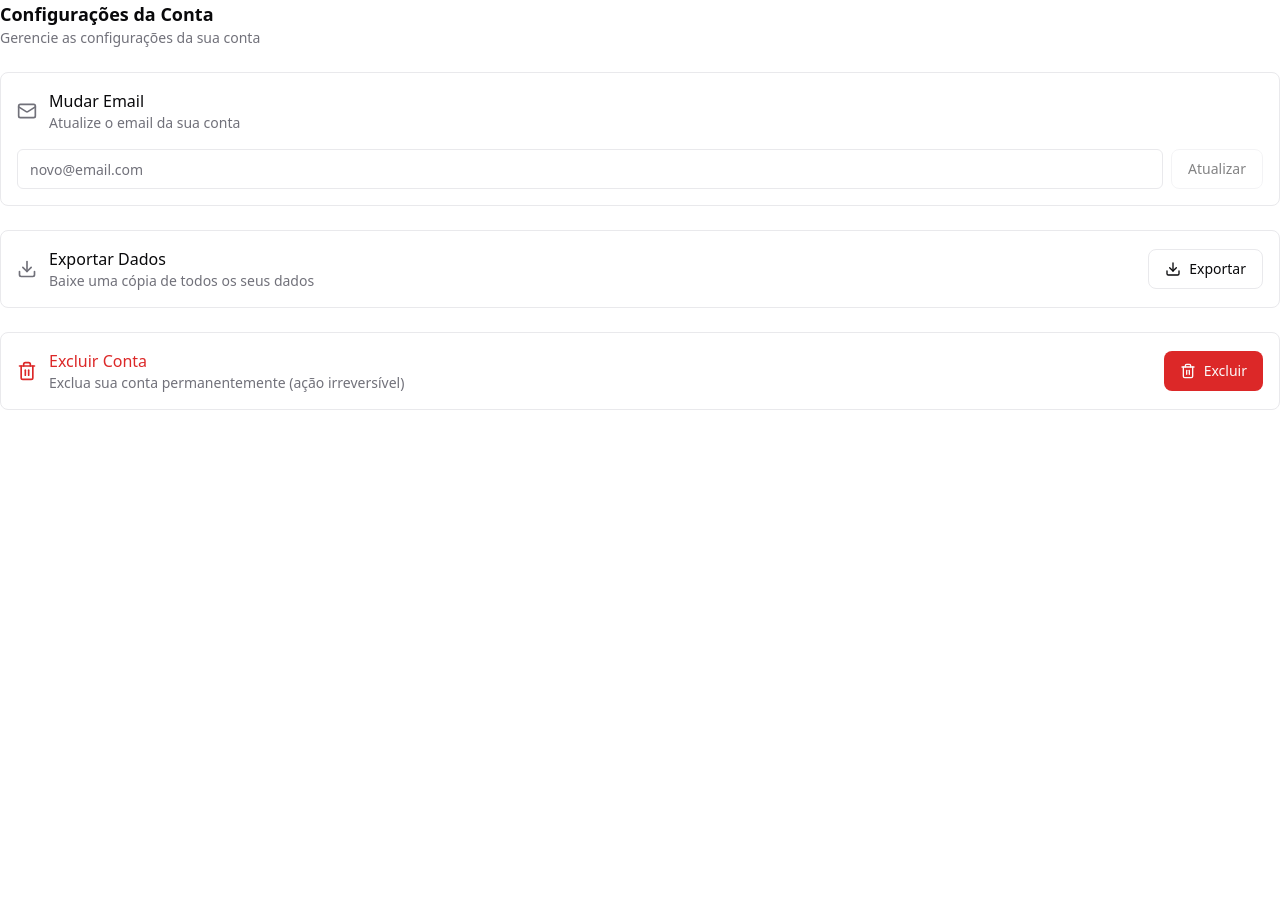
Test: AccountSettings › should open delete modal when delete button is clicked
Click the button "Excluir" at point(1213, 371), box [1164,351,1263,391]
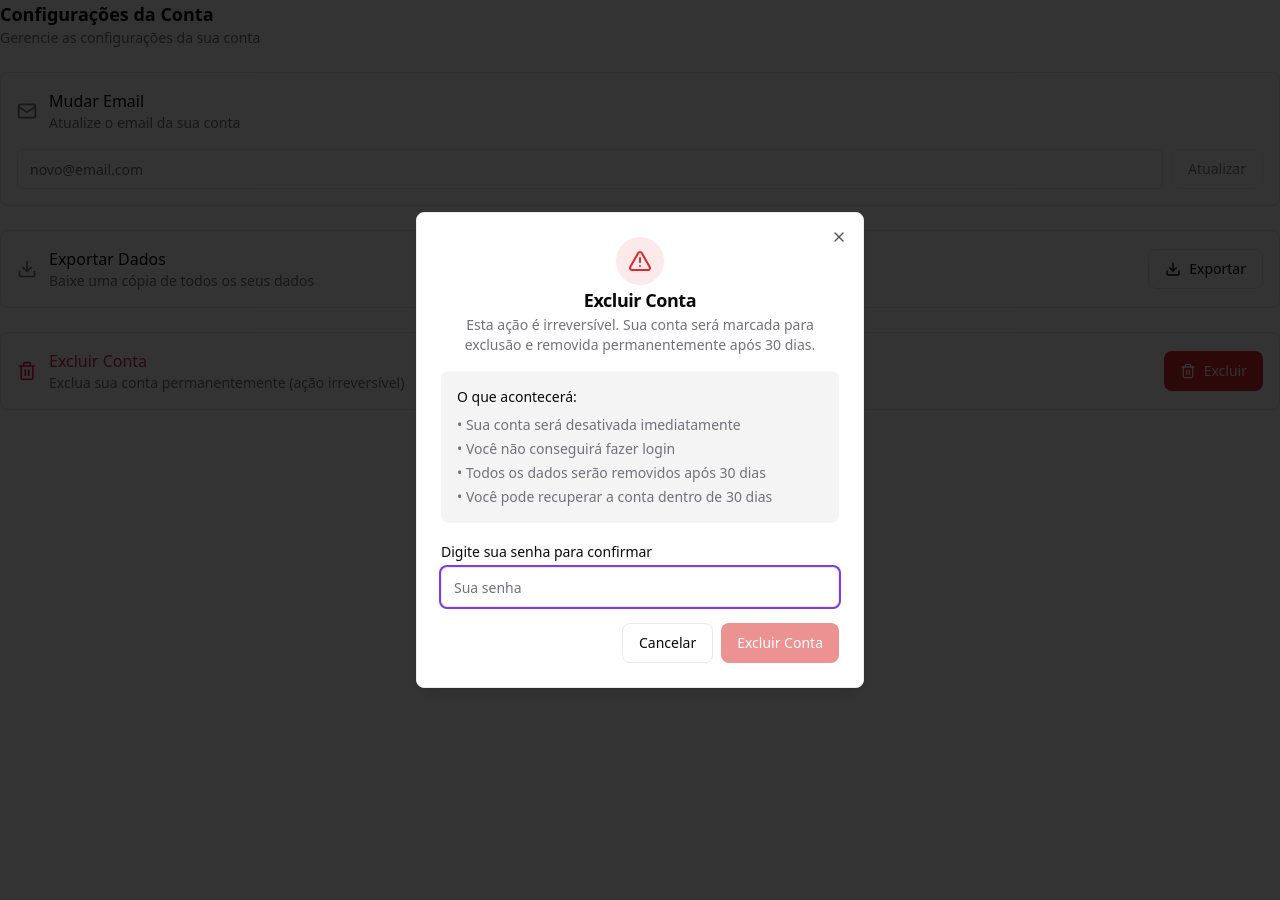
Now the dialog is shown, box [416,212,864,688]
